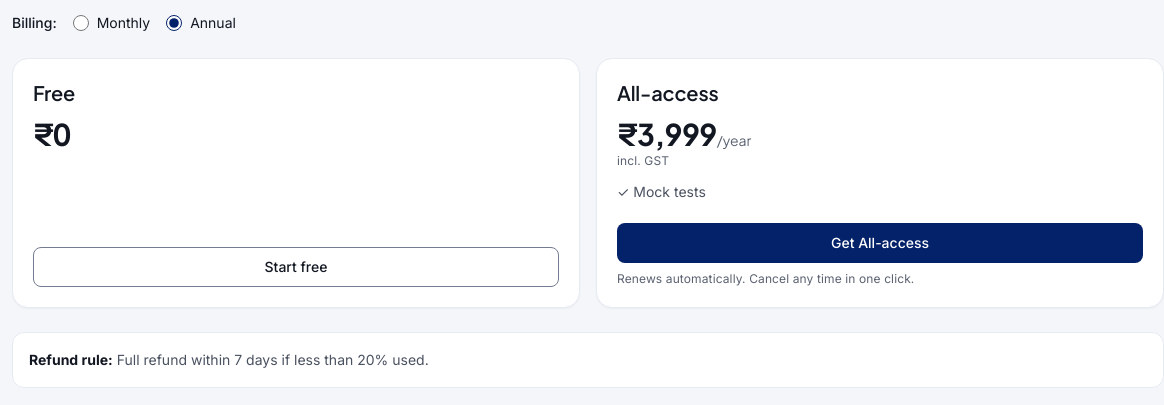
Test: PricingPlans (PUB-008) › shows annual prices by default and switches to monthly
The width and height of the screenshot is (1164, 405).
Expected: the list item "Mock tests" is shown, [633,183,706,200]
Expected: the text "₹3,999" is shown, [617,115,717,153]
Click the radio button labelled "Monthly": point(81, 23) [73,15,89,31]
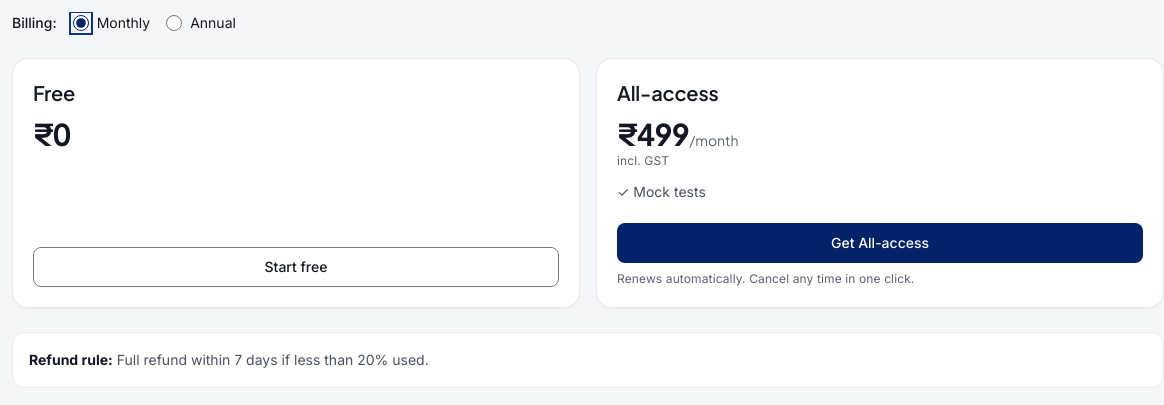
Expected: the text "Full refund within 7 days" is shown, [117,351,429,368]
Result: the text "₹499" is shown at [617,115,689,153]
